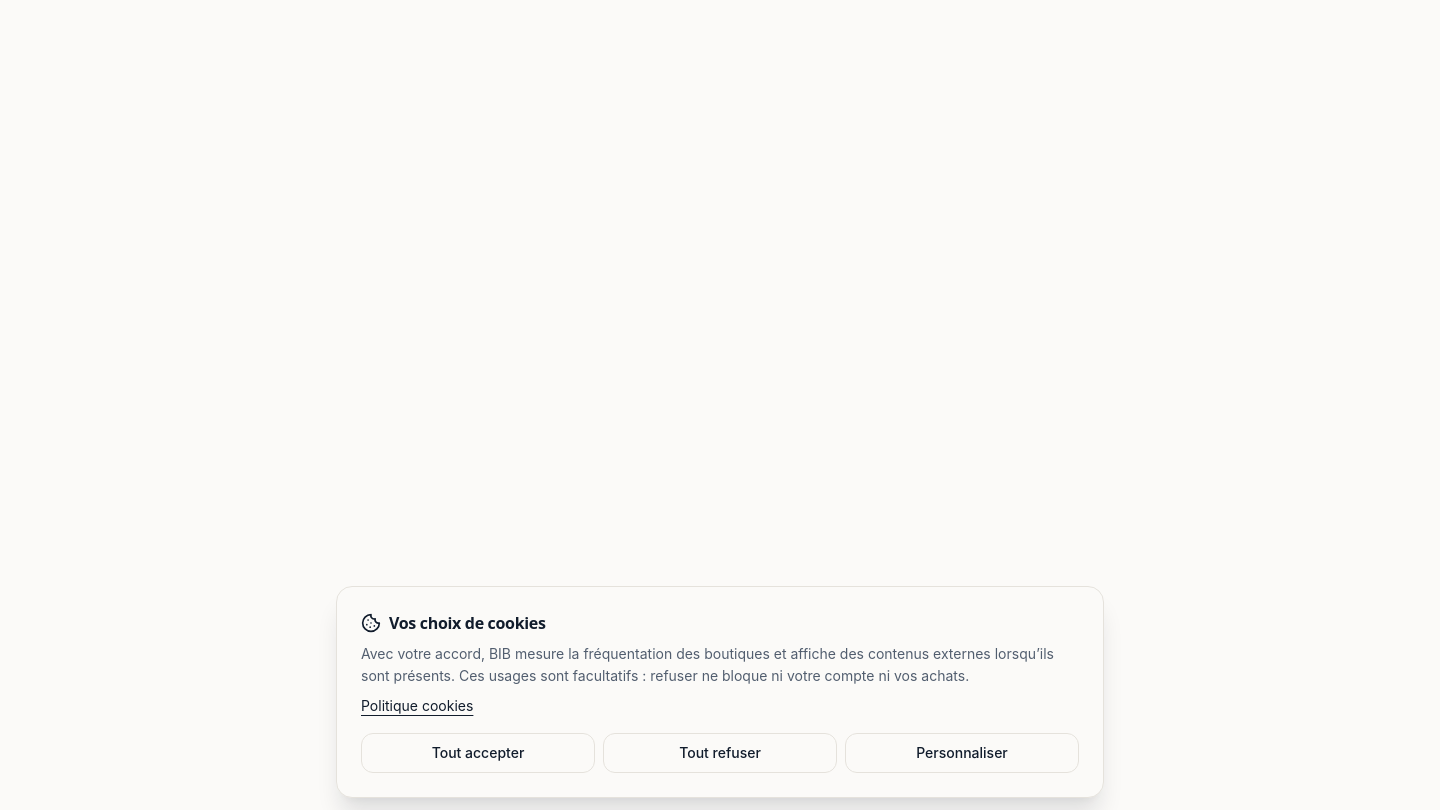
Test: Cookie consent user choices › keeps both optional switches off and does not save a draft when the panel is closed
Later steps or results of the test are not shown.
Click the button "Personnaliser". click: (962, 753)
box: top-left (845, 733), bottom-right (1079, 773)
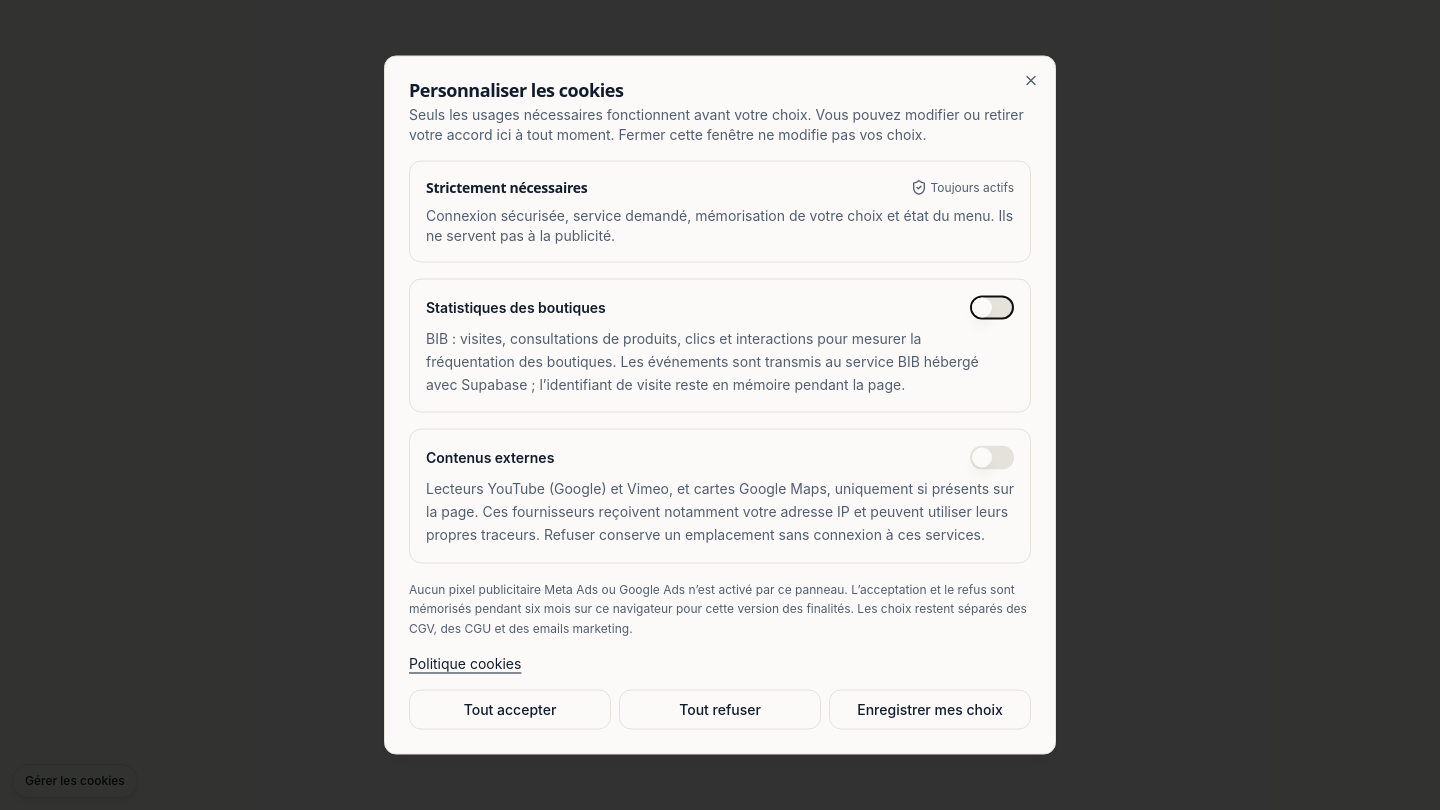
Now the switch named "Statistiques des boutiques" in the row of "Statistiques des boutiques" is not checked, box top-left (970, 296), bottom-right (1014, 320)
Now the switch named "Contenus externes" in the row of "Contenus externes" is not checked, box top-left (970, 446), bottom-right (1014, 470)
